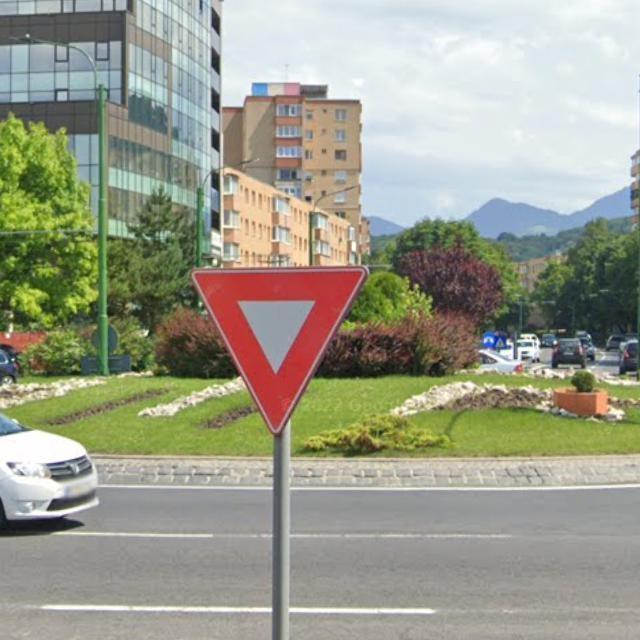prio_give_way: (184, 269, 366, 432)
